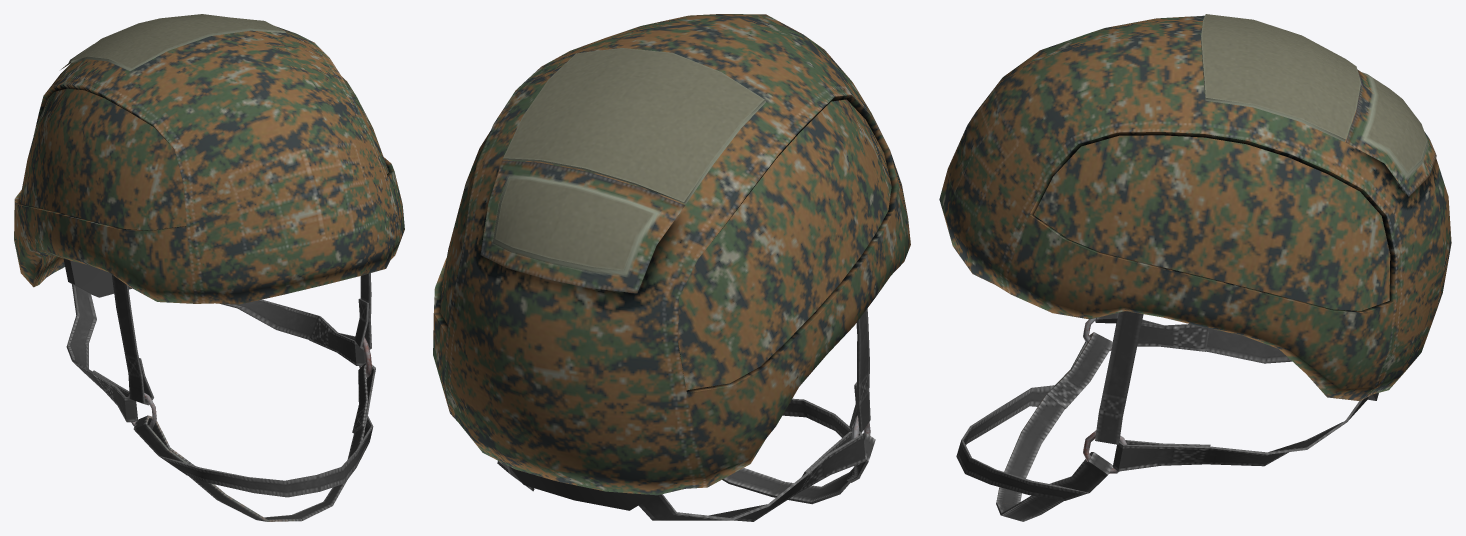
Rendered from helmet_mich.glb.
The picture shows the model from 3 angles, left to right: view 1: azimuth 30°, elevation 25°; view 2: azimuth 150°, elevation 25°; view 3: azimuth 270°, elevation 25°; orthographic projection. The views are drawn at different scales.
Visible parts, largest first — view 1: prop; view 2: prop; view 3: prop.
Boxes of the visible parts, <box> form: prop: <box>14,14,404,521</box>; prop: <box>433,14,910,521</box>; prop: <box>939,14,1451,521</box>.
Size of the model in its own units: 0.2 by 0.2685 by 0.2643.
1 material, 1 textured.
